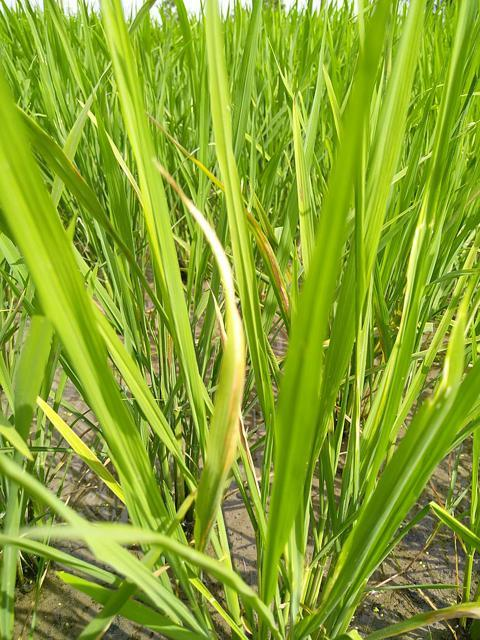Leaf Blight: (160, 172, 246, 552), (245, 209, 289, 317)
